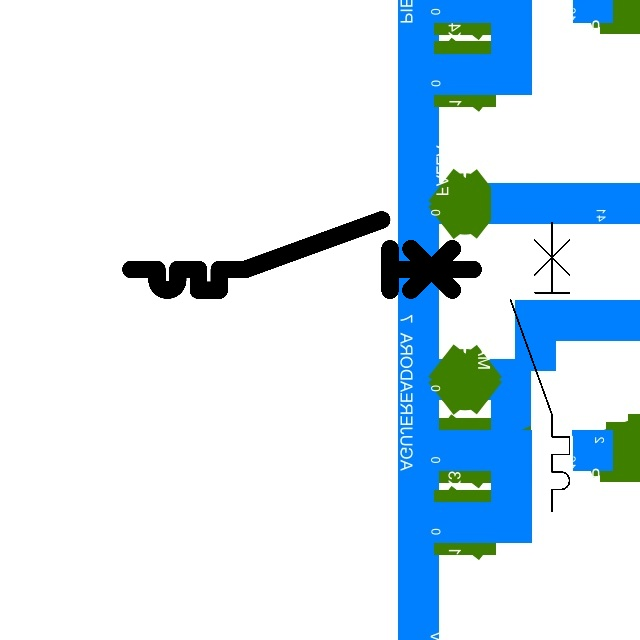interruptor_termomagnetico: (122, 211, 482, 299), (503, 215, 577, 519)
